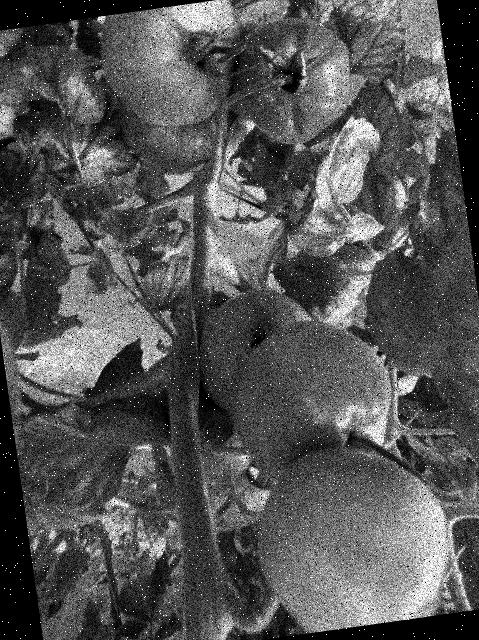b_green: (242, 431, 459, 639), (222, 308, 402, 487), (225, 10, 360, 152), (189, 282, 323, 417), (115, 80, 233, 183), (196, 408, 263, 500)
b_half_ripened: (93, 0, 252, 135)
